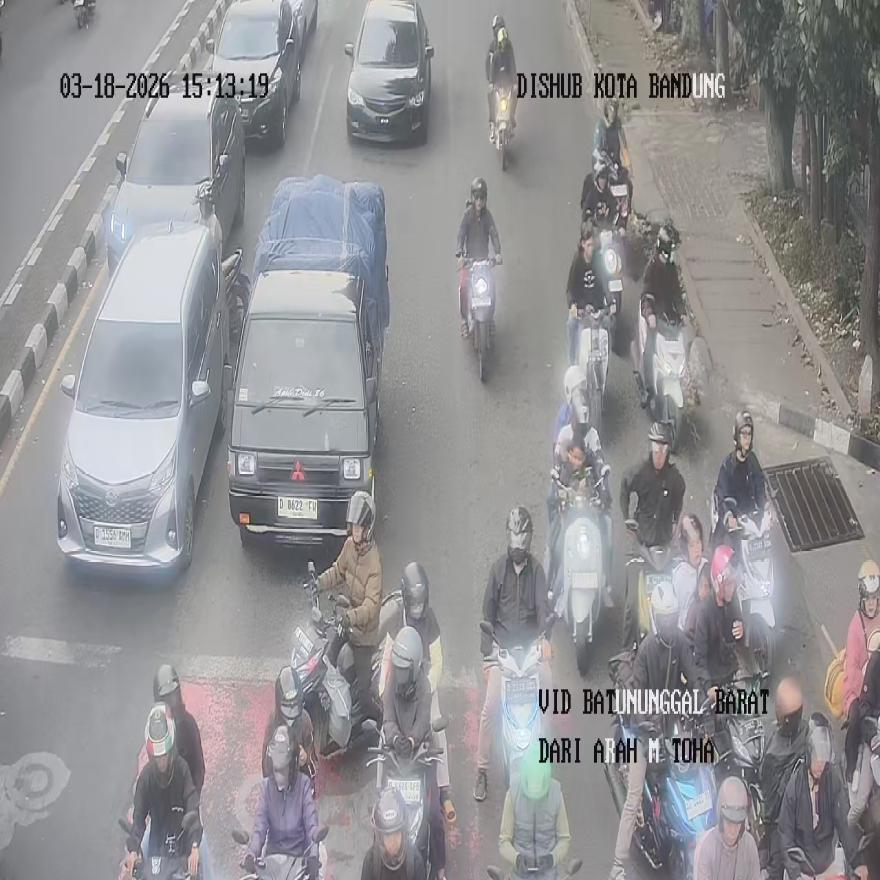Mobil: (225, 174, 389, 548), (56, 220, 228, 576), (106, 80, 244, 272), (206, 0, 299, 145), (345, 0, 433, 142)
Motor: (290, 561, 402, 761), (606, 716, 718, 878), (479, 621, 552, 797), (548, 474, 608, 675), (711, 496, 775, 675), (366, 731, 442, 880), (623, 516, 699, 649), (641, 310, 686, 448), (118, 810, 203, 880), (570, 302, 612, 436), (232, 825, 328, 880), (459, 256, 497, 382), (486, 13, 516, 144), (593, 226, 623, 317), (486, 854, 582, 880), (489, 83, 515, 169), (73, 0, 95, 29)
